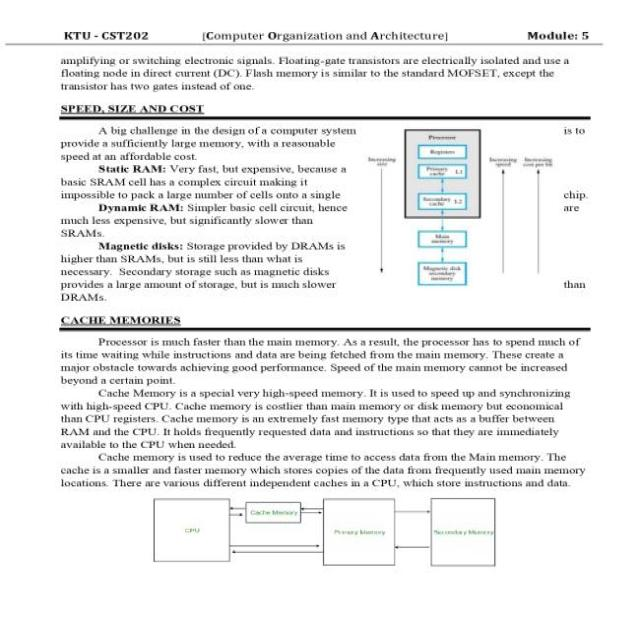Figure Detection - v3 Dataset Version2: (364, 126, 558, 303), (147, 490, 508, 576)
